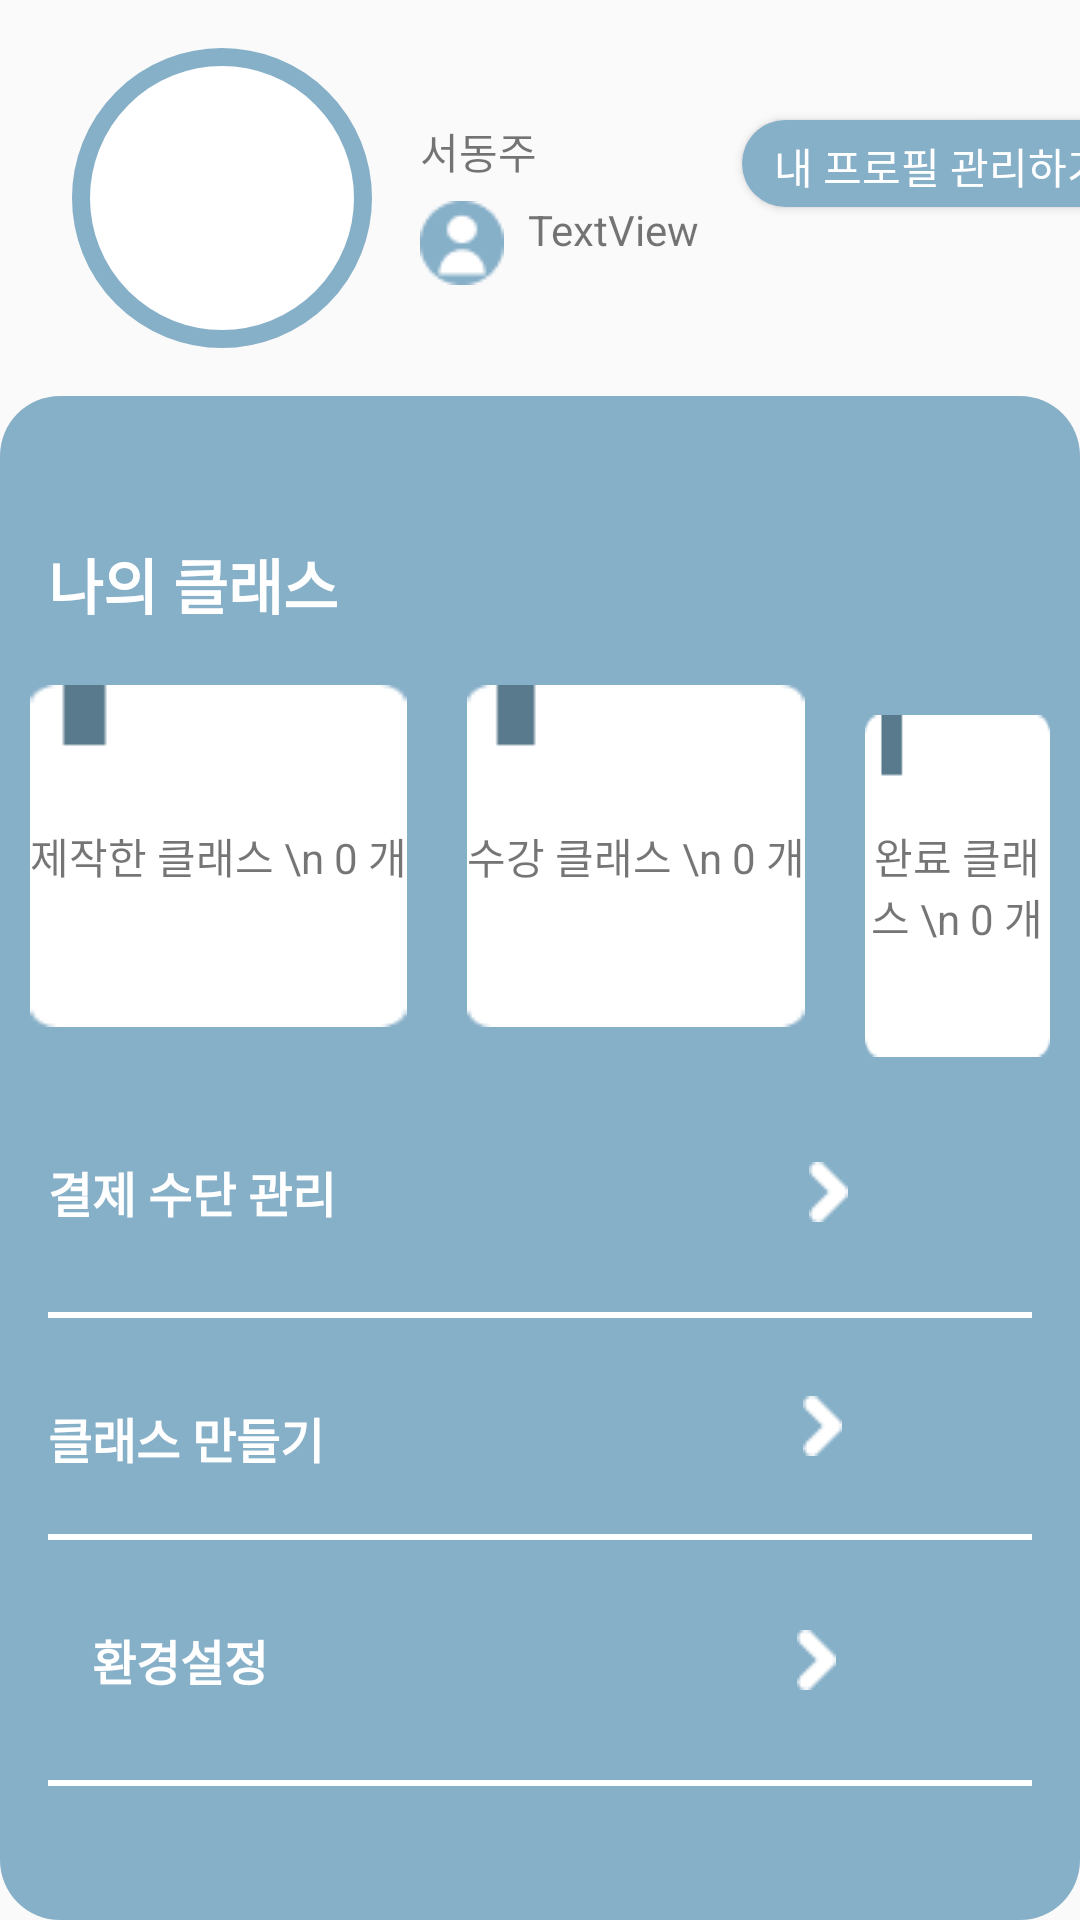

Locate icon controls on the screen. Image size 1080px×1920px, boxes as (x1, y1, x2, y2).
circle: (72, 48, 372, 348)
mini profile: (420, 201, 504, 285)
